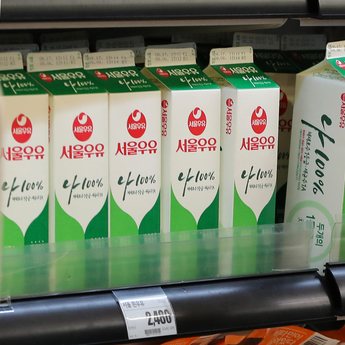milk: (2, 42, 280, 275), (283, 38, 345, 264)
